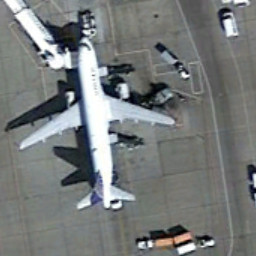Airplane: (17, 31, 181, 212)
